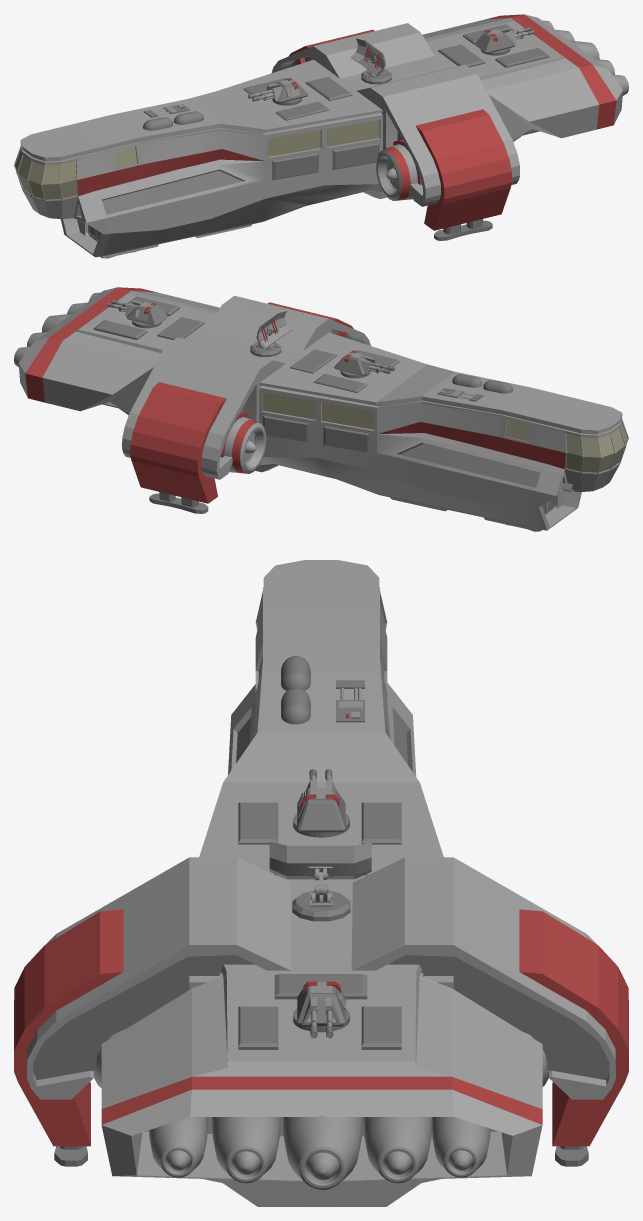
Rendered from SpaceShip.fbx.
3 renders of one model, top to bottom at view 1: azimuth 30°, elevation 25°; view 2: azimuth 150°, elevation 25°; view 3: azimuth 270°, elevation 25°, orthographic. The views are drawn at different scales.
Parts seen in each view (by area): view 1: polySurface10535, polySurface10502, polySurface10482, Radar, Turret5, Turret4, polySurface10428, polySurface10438, ShieldGenerator1, polySurface10439, polySurface10448, polySurface10486 (+2 smaller); view 2: polySurface10535, polySurface10502, polySurface10534, Radar, Turret5, Turret4, polySurface10483, ShieldGenerator1, polySurface10444, polySurface10495, polySurface10448, polySurface10486 (+2 smaller); view 3: polySurface10535, polySurface10502, Radar, polySurface10529, polySurface10532, polySurface10530, ShieldGenerator1, polySurface10531, polySurface10533, Turret4, Turret5, polySurface10432 (+4 smaller).
Part boxes in pixels (x1,y1,x2,y2): polySurface10535: (14,14,622,258); polySurface10502: (271,23,519,230); polySurface10482: (376,144,417,200); Radar: (350,38,391,84); Turret5: (474,27,534,55); Turret4: (248,78,308,105); polySurface10428: (272,153,318,180); polySurface10438: (332,142,379,169); ShieldGenerator1: (143,104,203,130); polySurface10439: (434,219,492,240); polySurface10448: (305,77,352,100); polySurface10486: (438,44,485,67); polySurface10535: (18,287,628,531); polySurface10502: (122,295,370,503); polySurface10534: (224,417,266,473); Radar: (250,310,291,356); Turret5: (107,299,168,328); Turret4: (334,350,394,378); polySurface10483: (323,426,370,453); ShieldGenerator1: (437,374,513,401); polySurface10444: (263,415,309,442); polySurface10495: (149,492,208,513); polySurface10448: (290,349,337,373); polySurface10486: (157,317,204,339); polySurface10535: (101,560,542,1206); polySurface10502: (14,857,628,1146); Radar: (269,842,371,921); polySurface10529: (282,1115,362,1189); polySurface10532: (212,1117,280,1183); polySurface10530: (363,1117,431,1183); ShieldGenerator1: (281,656,364,724); polySurface10531: (432,1117,490,1177); polySurface10533: (149,1117,207,1177); Turret4: (293,769,349,837); Turret5: (293,981,349,1038); polySurface10432: (238,1006,278,1049).
Bounding box in the file's own units: 42.21 × 10.08 × 20.48.
